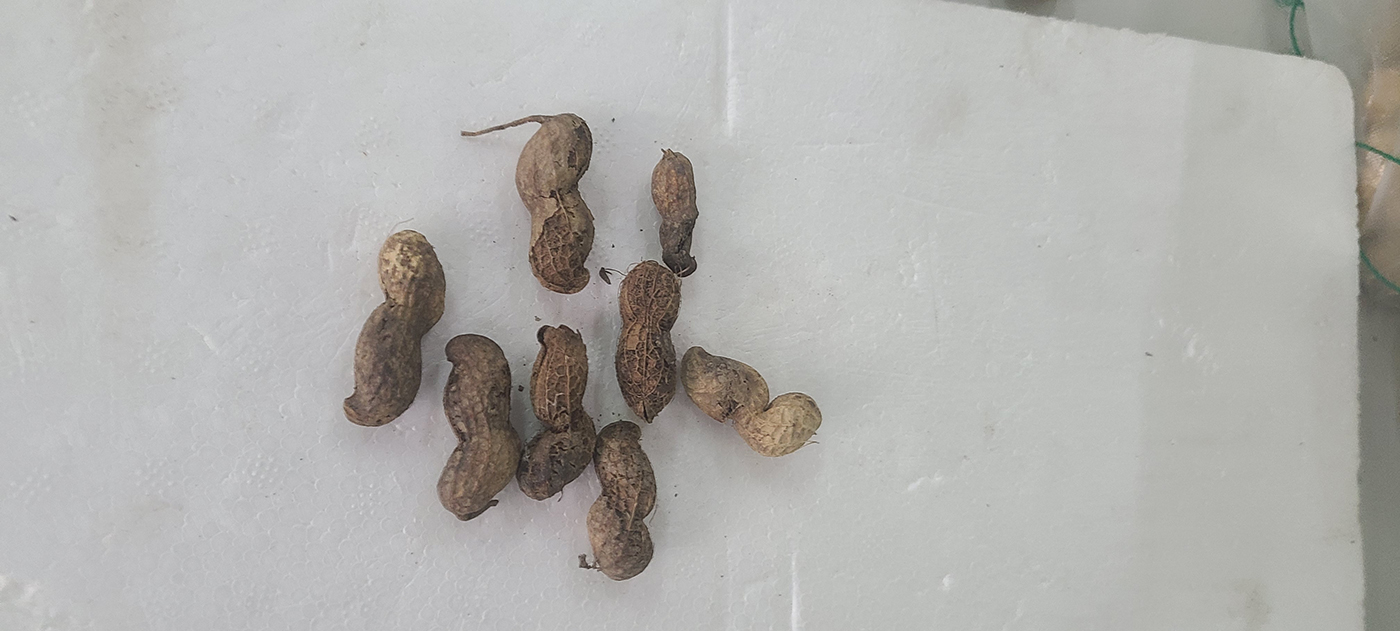l: (342, 230, 447, 426), (435, 333, 521, 519), (679, 346, 823, 455), (515, 113, 595, 295), (514, 325, 596, 499), (585, 420, 658, 580), (617, 262, 681, 424), (652, 151, 701, 276)
